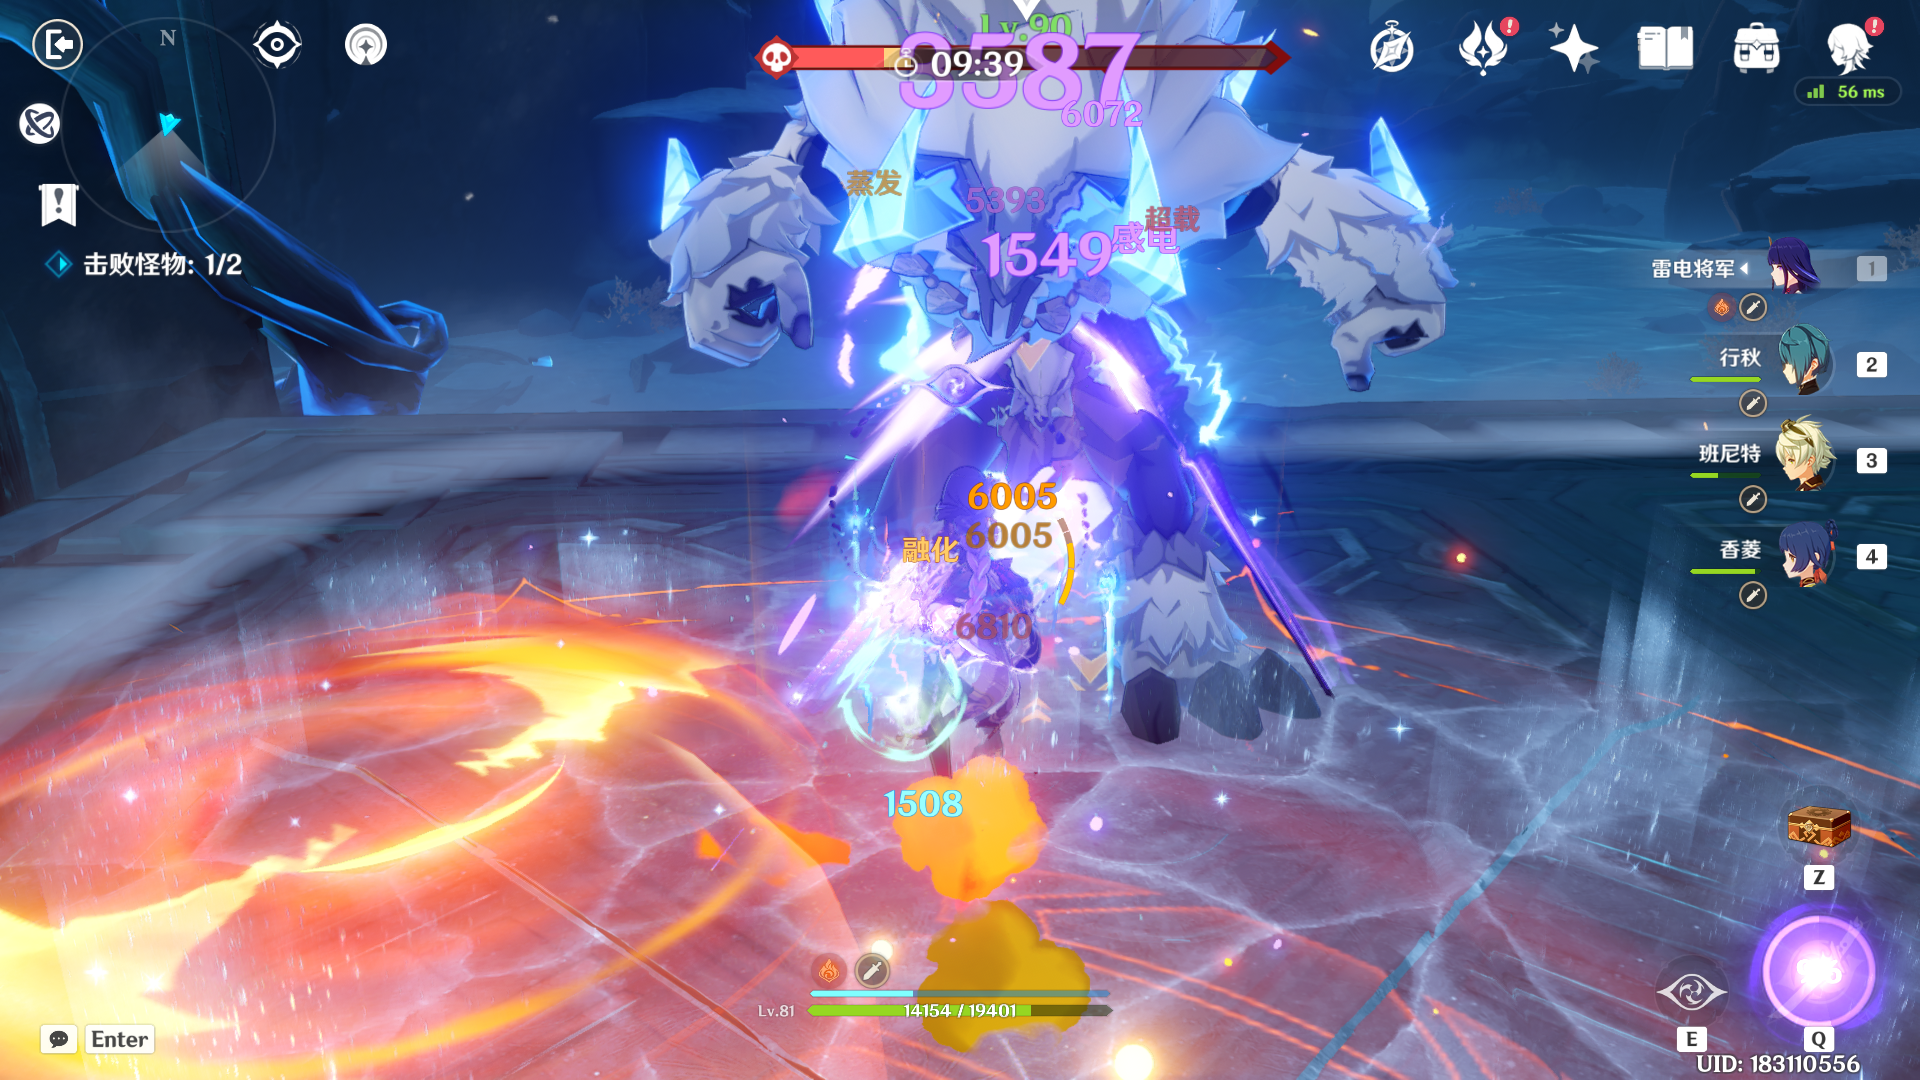bosshili: (562, 1, 1484, 798)
character: (847, 430, 1072, 800)
